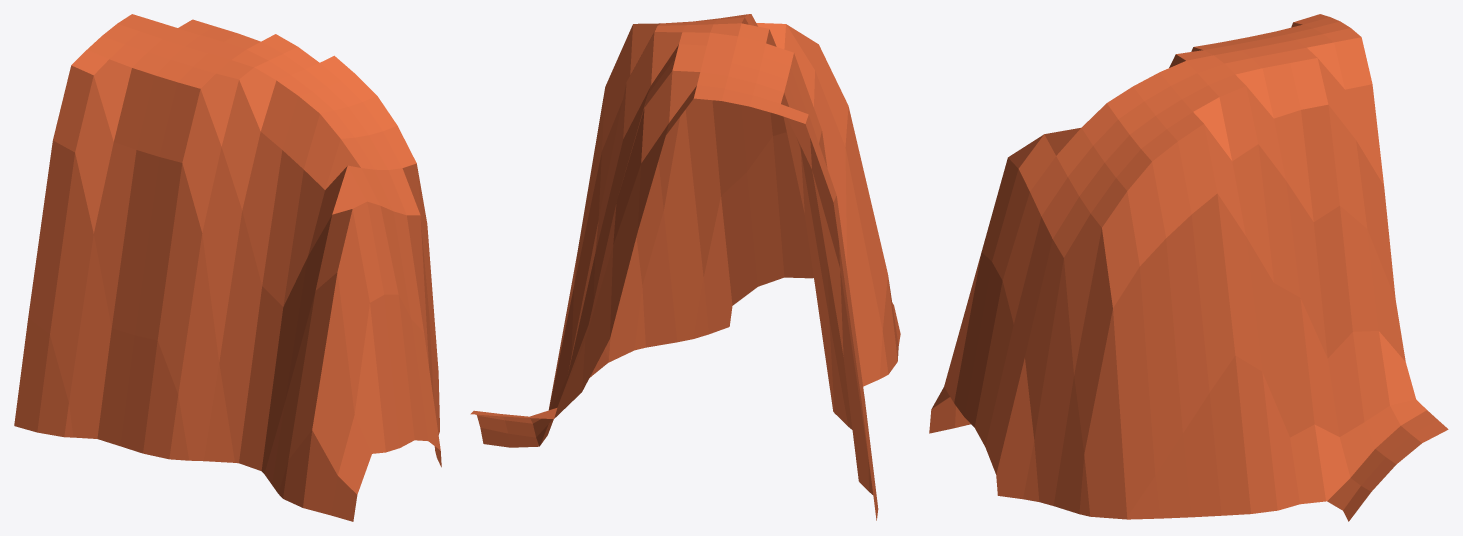
Rendered from sand_mountain_3.fbx.
3 views of the same model, side by side, from view 1: azimuth 30°, elevation 25°; view 2: azimuth 150°, elevation 25°; view 3: azimuth 270°, elevation 25° (orthographic). The views are drawn at different scales.
Visible parts, largest first — view 1: Plane.008; view 2: Plane.008; view 3: Plane.008.
Boxes of the visible parts, box(x1,y1,x2,y2) form: Plane.008: box(14, 14, 441, 521); Plane.008: box(470, 14, 900, 520); Plane.008: box(929, 14, 1448, 521).
Bounding box in the file's own units: 1140 × 1183 × 1439.
